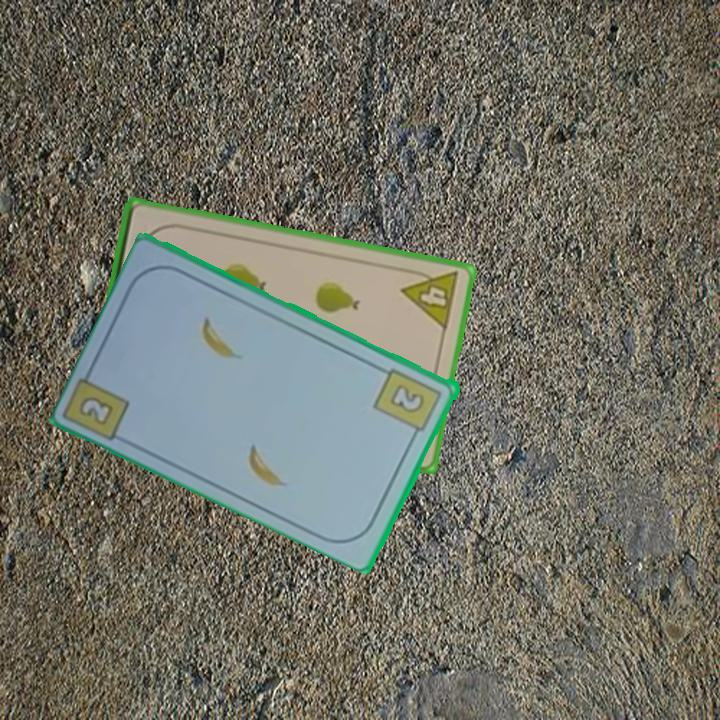2b: (371, 364, 446, 442), (75, 392, 118, 428)
4p: (398, 264, 462, 333)
